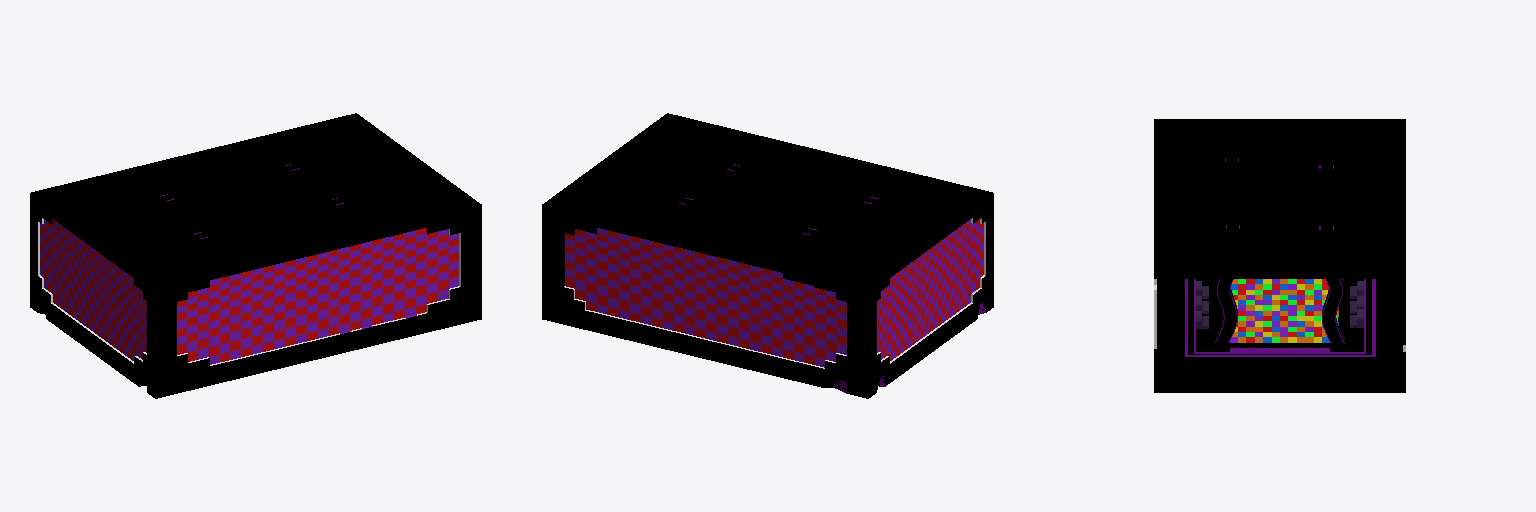
File: ClubScene.obj
3 views of the same model, side by side, from view 1: azimuth 30°, elevation 25°; view 2: azimuth 150°, elevation 25°; view 3: azimuth 270°, elevation 25° (orthographic).
Visible parts, largest first — view 1: pCube1; view 2: pCube1; view 3: pCube1, nurbsToPoly2, nurbsToPoly3.
Part boxes in pixels (x1,y1,x2,y2): pCube1: (30, 113, 481, 398); pCube1: (542, 113, 993, 398); pCube1: (1154, 119, 1405, 392); nurbsToPoly2: (1319, 226, 1344, 343); nurbsToPoly3: (1215, 225, 1239, 342).
Bounding box in the file's own units: 300 × 101 × 200.